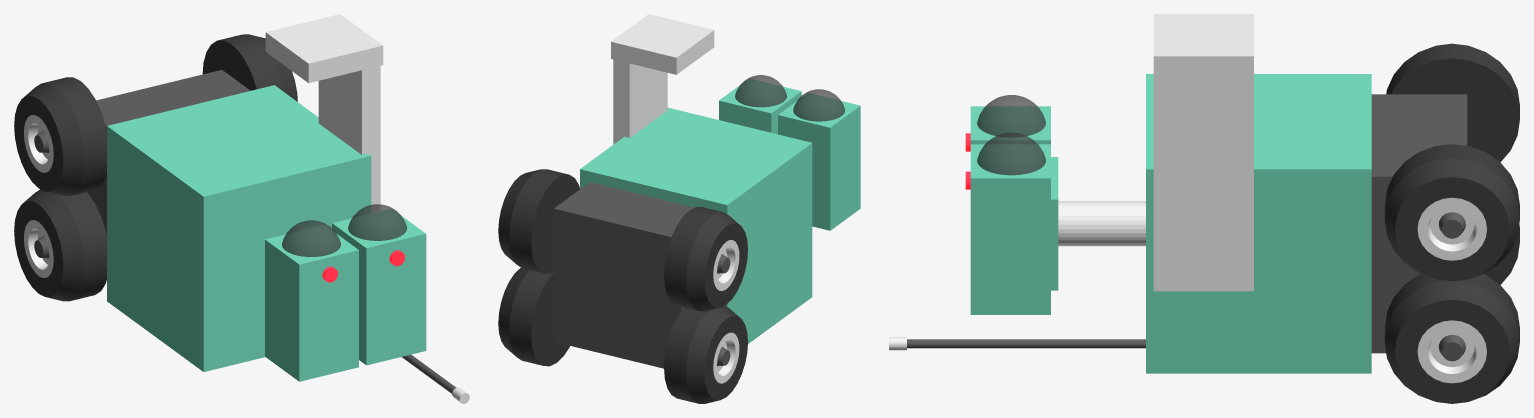
3 renders of one model, left to right at view 1: azimuth 30°, elevation 25°; view 2: azimuth 150°, elevation 25°; view 3: azimuth 270°, elevation 25°, orthographic. The views are drawn at different scales.
Parts seen in each view (by area): view 1: Cube, Cube.004, Cube.001, wheel_frontLeft.001, wheel_frontLeft.002, Cube.003, Cube.002, Cube.007, wheel_frontLeft.003, Sphere.001, Sphere, Cylinder.006; view 2: Cube, Cube.007, Cube.004, wheel_frontLeft.001, wheel_frontLeft.002, wheel_frontLeft.003, wheel_frontLeft.004, Cube.003, Cube.002, Cube.001, Sphere, Sphere.001; view 3: Cube, Cube.002, wheel_frontLeft.003, wheel_frontLeft.004, Cube.001, Cube.007, wheel_frontLeft.001, Cube.003, Cylinder.002, Cube.004, Cylinder.006, Sphere.001 (+3 smaller).
Part boxes in pixels (x1=…): Cube: x1=107, y1=85, x2=371, y2=371; Cube.004: x1=265, y1=225, x2=358, y2=381; Cube.001: x1=332, y1=209, x2=426, y2=365; wheel_frontLeft.001: x1=14, y1=77, x2=106, y2=195; wheel_frontLeft.002: x1=14, y1=189, x2=106, y2=301; Cube.003: x1=265, y1=14, x2=383, y2=83; Cube.002: x1=318, y1=54, x2=380, y2=212; Cube.007: x1=87, y1=70, x2=250, y2=235; wheel_frontLeft.003: x1=202, y1=34, x2=297, y2=101; Sphere.001: x1=348, y1=204, x2=406, y2=240; Sphere: x1=282, y1=220, x2=340, y2=256; Cylinder.006: x1=402, y1=354, x2=456, y2=393; Cube: x1=580, y1=107, x2=812, y2=343; Cube.007: x1=554, y1=182, x2=693, y2=368; Cube.004: x1=778, y1=93, x2=860, y2=230; wheel_frontLeft.001: x1=664, y1=207, x2=747, y2=311; wheel_frontLeft.002: x1=664, y1=305, x2=747, y2=403; wheel_frontLeft.003: x1=498, y1=169, x2=579, y2=273; wheel_frontLeft.004: x1=498, y1=268, x2=569, y2=366; Cube.003: x1=611, y1=14, x2=714, y2=74; Cube.002: x1=613, y1=49, x2=667, y2=144; Cube.001: x1=719, y1=78, x2=801, y2=134; Sphere: x1=793, y1=89, x2=844, y2=121; Sphere.001: x1=735, y1=75, x2=786, y2=107; Cube: x1=1146, y1=74, x2=1371, y2=373; Cube.002: x1=1153, y1=79, x2=1253, y2=291; wheel_frontLeft.003: x1=1384, y1=144, x2=1519, y2=281; wheel_frontLeft.004: x1=1384, y1=274, x2=1519, y2=403; Cube.001: x1=970, y1=144, x2=1050, y2=314; Cube.007: x1=1371, y1=94, x2=1467, y2=353; wheel_frontLeft.001: x1=1386, y1=43, x2=1519, y2=162; Cube.003: x1=1153, y1=14, x2=1253, y2=79; Cylinder.002: x1=1058, y1=201, x2=1145, y2=246; Cube.004: x1=970, y1=106, x2=1050, y2=144; Cylinder.006: x1=907, y1=339, x2=1145, y2=348; Sphere.001: x1=977, y1=132, x2=1045, y2=175.
Size of the model in its own units: 0.6287 by 0.761 by 1.26.
